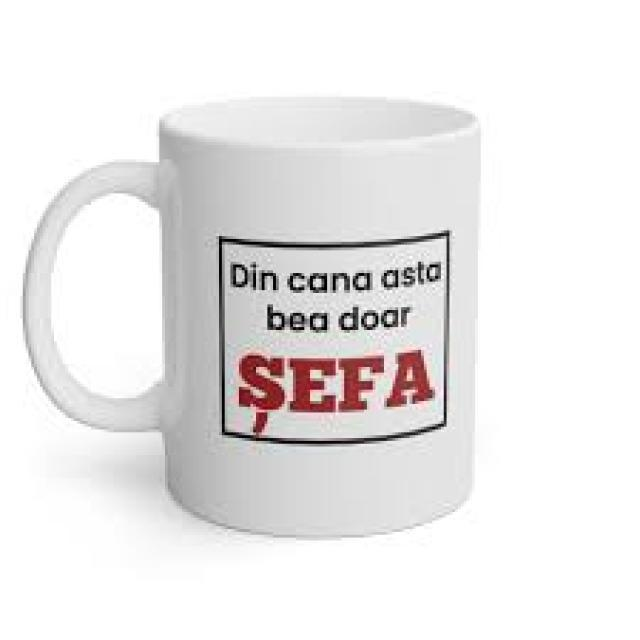taza: (98, 75, 590, 576)
